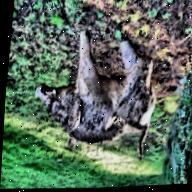boar: (27, 25, 164, 167)
